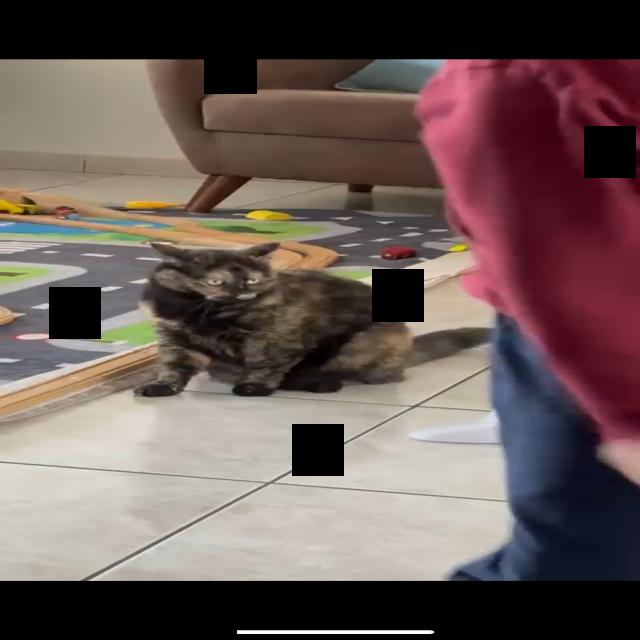authorized: (132, 240, 492, 398)
